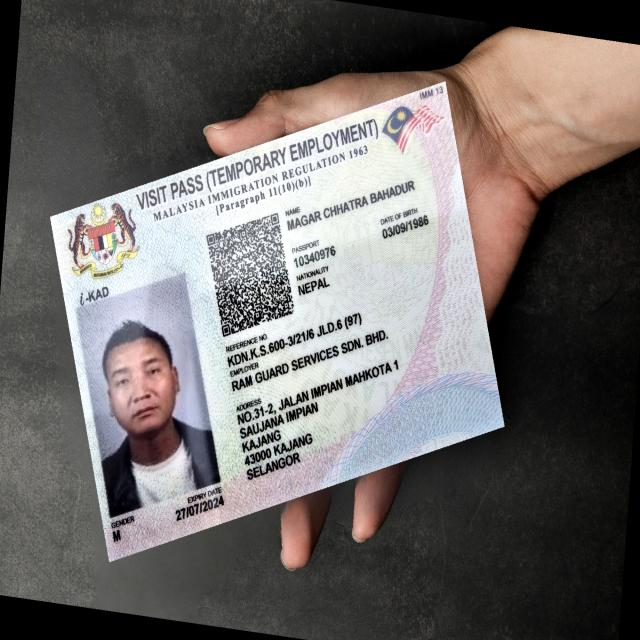ikad-temp: (49, 79, 505, 562)
